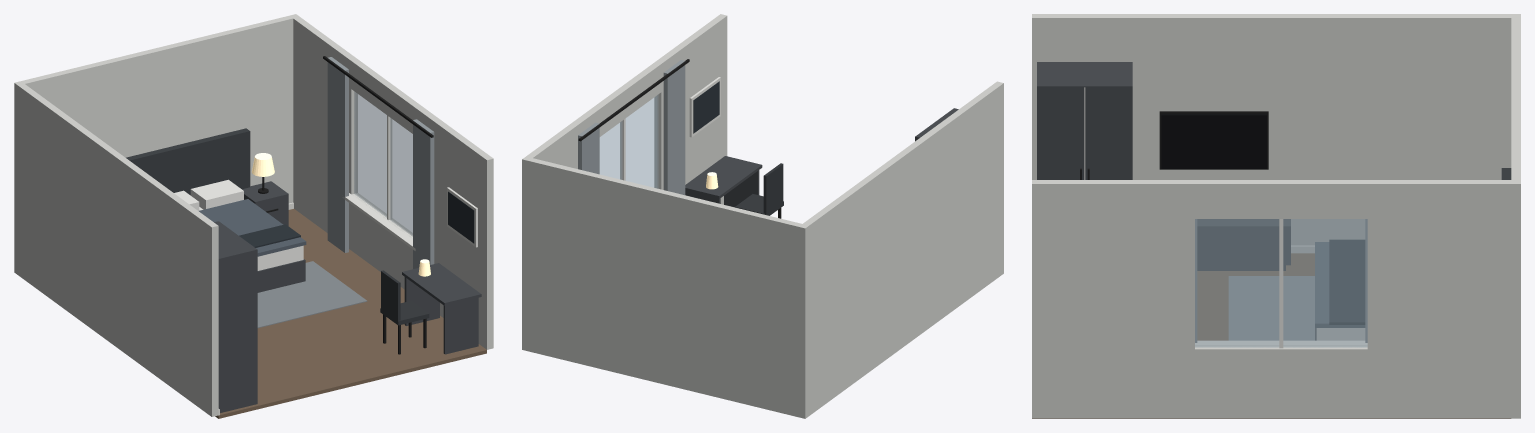
Rendered from room-11.glb.
3 views of the same model, side by side, from view 1: azimuth 30°, elevation 25°; view 2: azimuth 150°, elevation 25°; view 3: azimuth 270°, elevation 25° (orthographic). The views are drawn at different scales.
Visible parts, largest first — view 1: wall, floor, wood, curtain, glass, headboard, rug, blanket, window_frame, linen, runner, chair (+2 smaller); view 2: wall, glass, curtain, wood, chair, runner, window_frame, metal; view 3: wall, glass, wood, screen, rug, floor, runner, window_frame, blanket, metal, curtain, linen.
Part boxes in pixels (x1,y1,x2,y2): wall: (14,14,493,416); floor: (215,209,486,418); wood: (214,181,481,412); curtain: (327,57,434,268); glass: (354,91,412,236); headboard: (126,128,250,195); rug: (257,261,367,328); blanket: (199,199,306,256); window_frame: (342,115,477,250); linen: (174,179,303,270); runner: (239,191,474,247); chair: (380,270,429,325); wall: (522,14,1003,418); glass: (599,95,658,188); curtain: (578,60,685,195); wood: (685,108,958,207); chair: (735,163,783,215); runner: (693,81,719,133); window_frame: (620,77,720,180); metal: (578,59,781,218); wall: (1032,14,1520,418); glass: (1195,219,1367,347); wood: (1037,62,1316,340); screen: (1161,114,1266,168); rug: (1228,276,1314,340); floor: (1032,253,1510,418); runner: (1329,239,1365,324); window_frame: (1195,219,1367,348); blanket: (1315,242,1365,327); metal: (1080,111,1268,179); curtain: (1195,219,1367,342); linen: (1316,328,1365,340).
Size of the model in its own units: 4.2 by 2.75 by 5.1.
